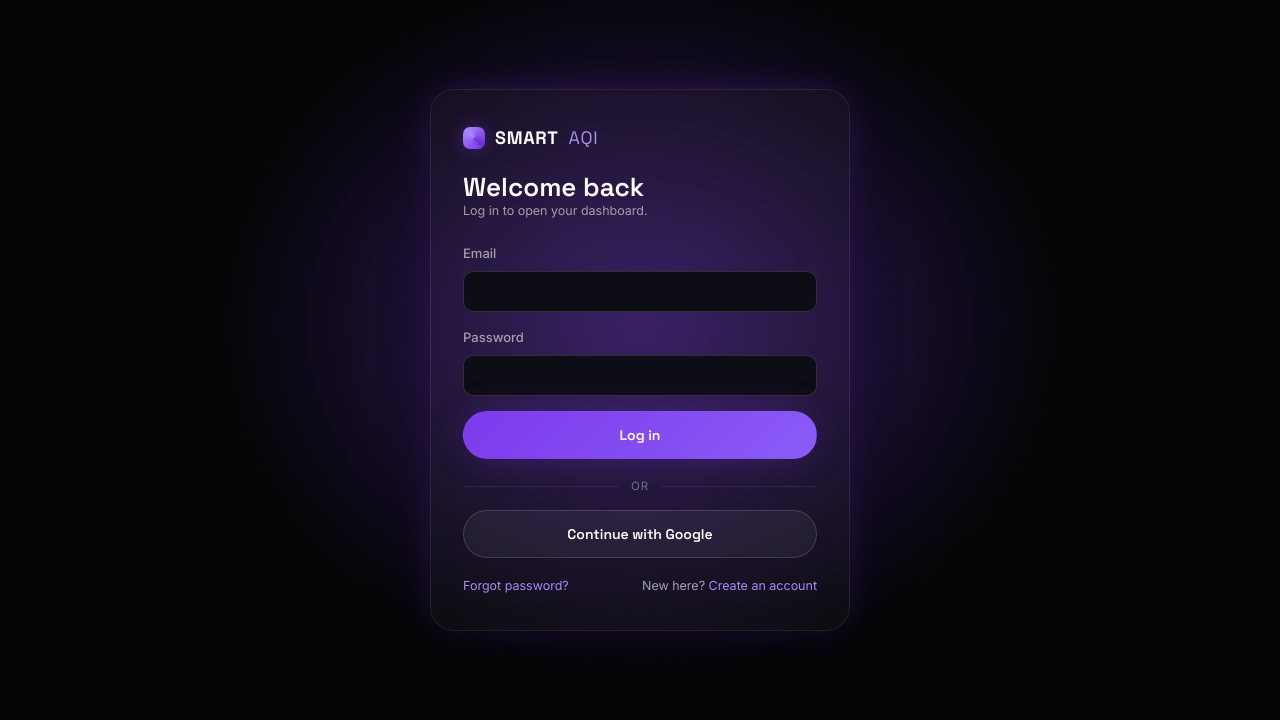
Test case: LoginPage › shows the server error and stays on the page
Type "a@b.com" into the field labelled "Email" at (640, 292), box x1=463 y1=271 x2=817 y2=312
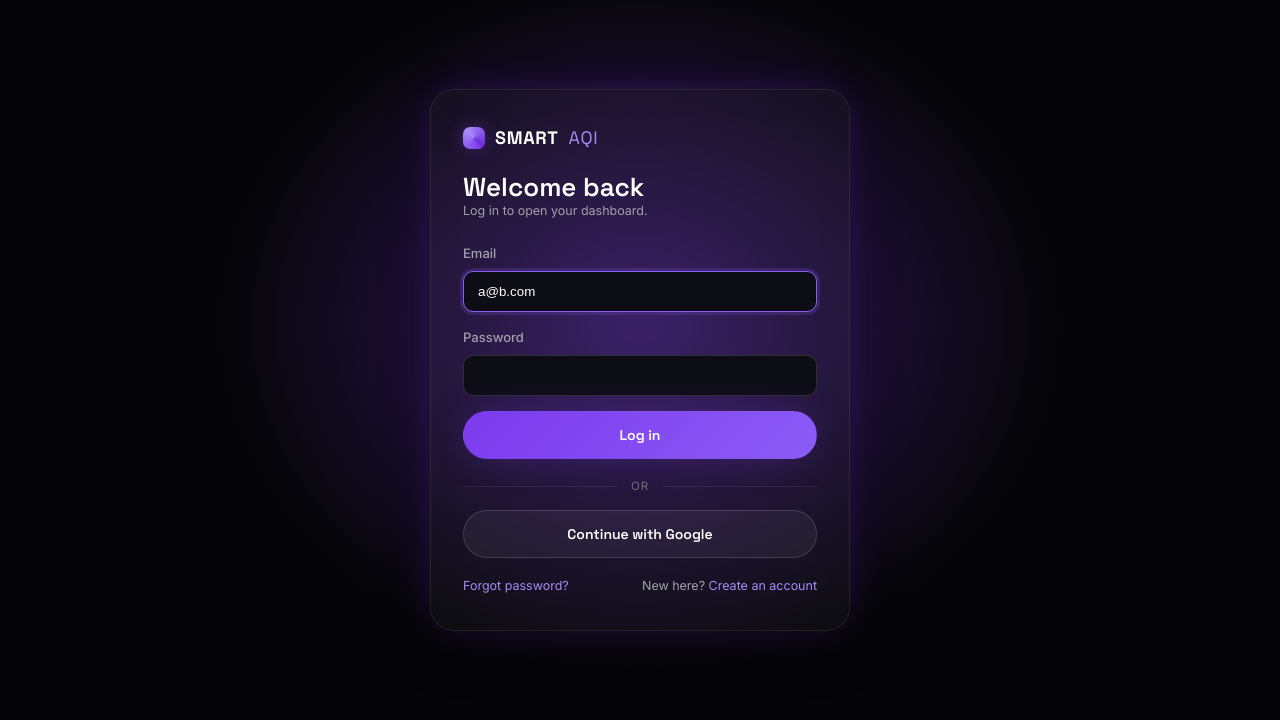
Type "whatever1A#" into the password field labelled "Password" at (640, 375), box x1=463 y1=355 x2=817 y2=396
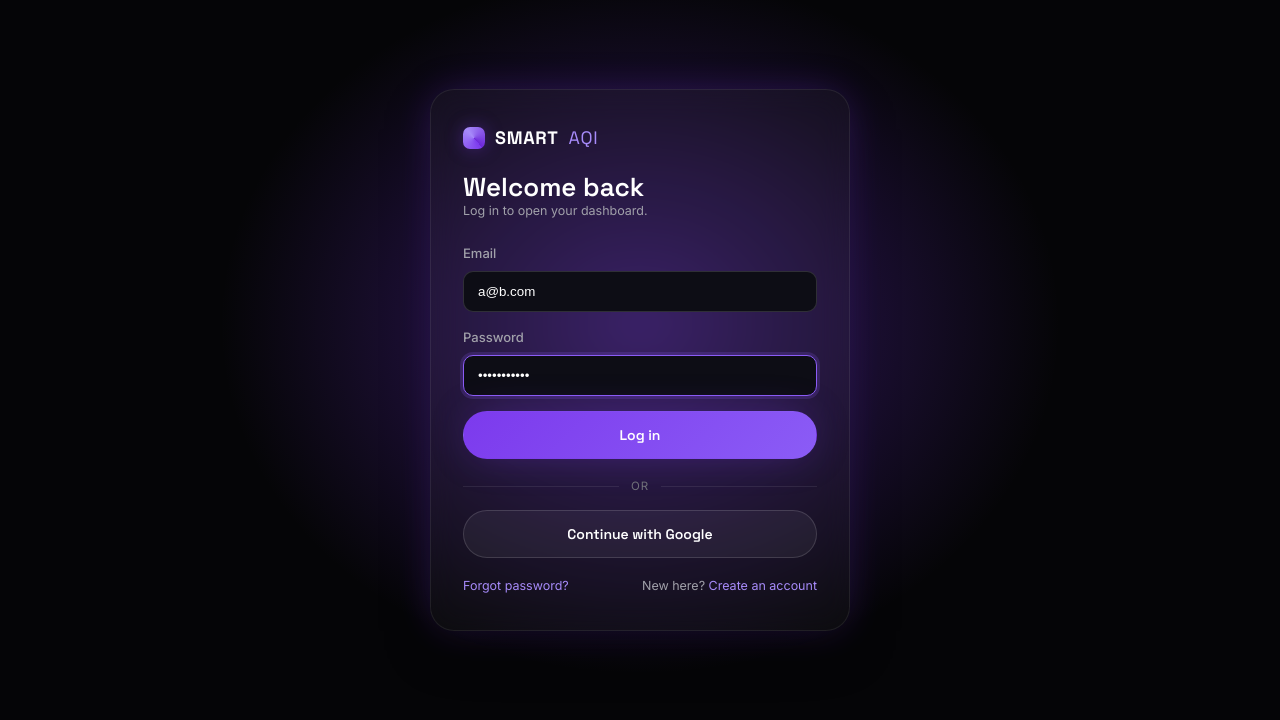
Click the button "Log in" at (640, 435), box x1=463 y1=411 x2=817 y2=459
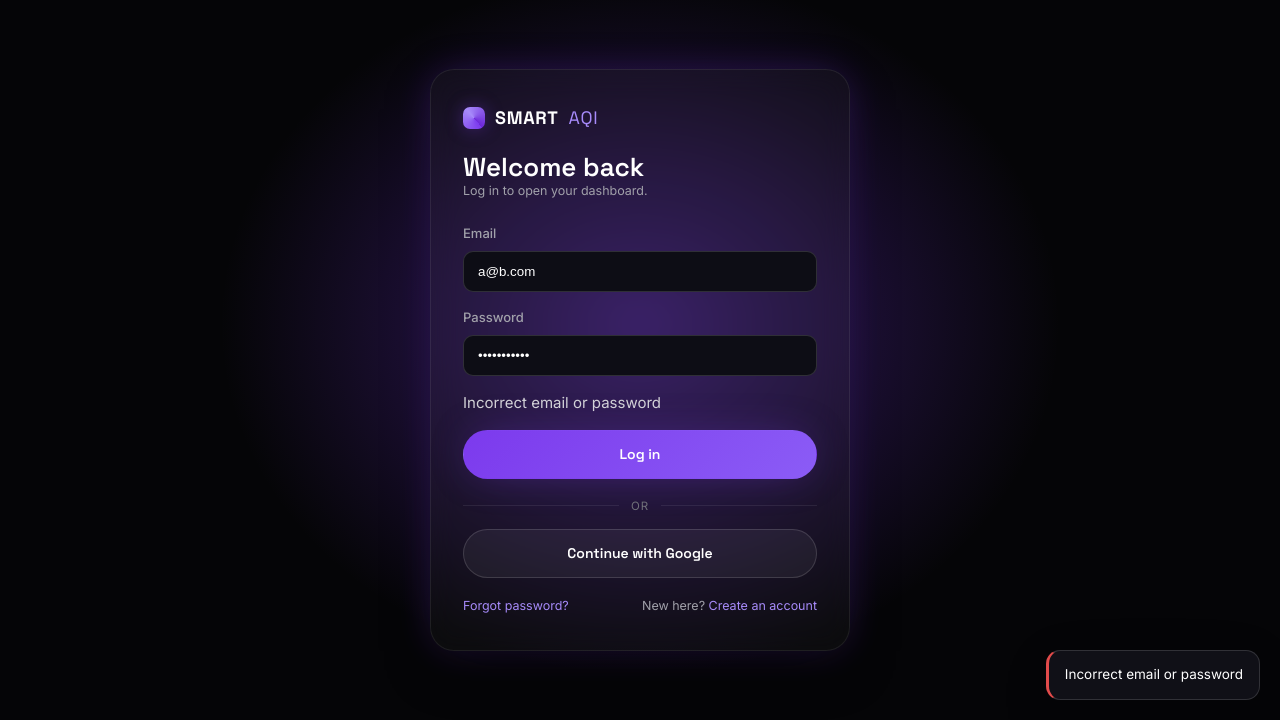
Result: the text "Incorrect email or password" below "Log in to open your dashboard." is shown at x1=463 y1=393 x2=661 y2=412
